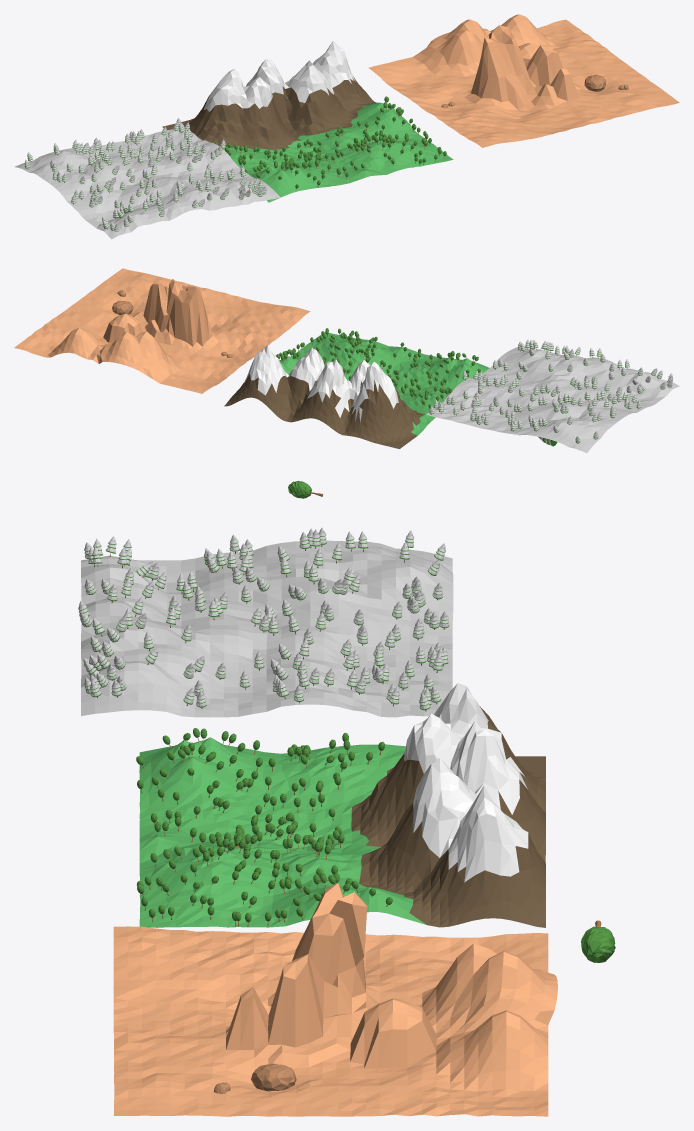
3 views of the same model, one above another, from view 1: azimuth 30°, elevation 25°; view 2: azimuth 150°, elevation 25°; view 3: azimuth 270°, elevation 25° (orthographic). The views are drawn at different scales.
Visible parts, largest first — view 1: Desert LandScape, Wasteland, Snow land; view 2: Desert LandScape, Wasteland, Snow land, Icosphere.003; view 3: Desert LandScape, Wasteland, Snow land, Icosphere.003, Icosphere.002.
Boxes of the visible parts, left/top/right/bottom form: Desert LandScape: left=368, top=14, right=679, bottom=147; Wasteland: left=162, top=41, right=453, bottom=202; Snow land: left=14, top=128, right=280, bottom=239; Desert LandScape: left=14, top=268, right=310, bottom=393; Wasteland: left=224, top=332, right=489, bottom=448; Snow land: left=426, top=347, right=679, bottom=452; Icosphere.003: left=288, top=481, right=323, bottom=498; Desert LandScape: left=113, top=883, right=557, bottom=1116; Wasteland: left=139, top=683, right=545, bottom=927; Snow land: left=81, top=540, right=453, bottom=717; Icosphere.003: left=581, top=920, right=615, bottom=962; Icosphere.002: left=251, top=1063, right=296, bottom=1091.
Size of the model in its own units: 4676 by 1015 by 1980.
